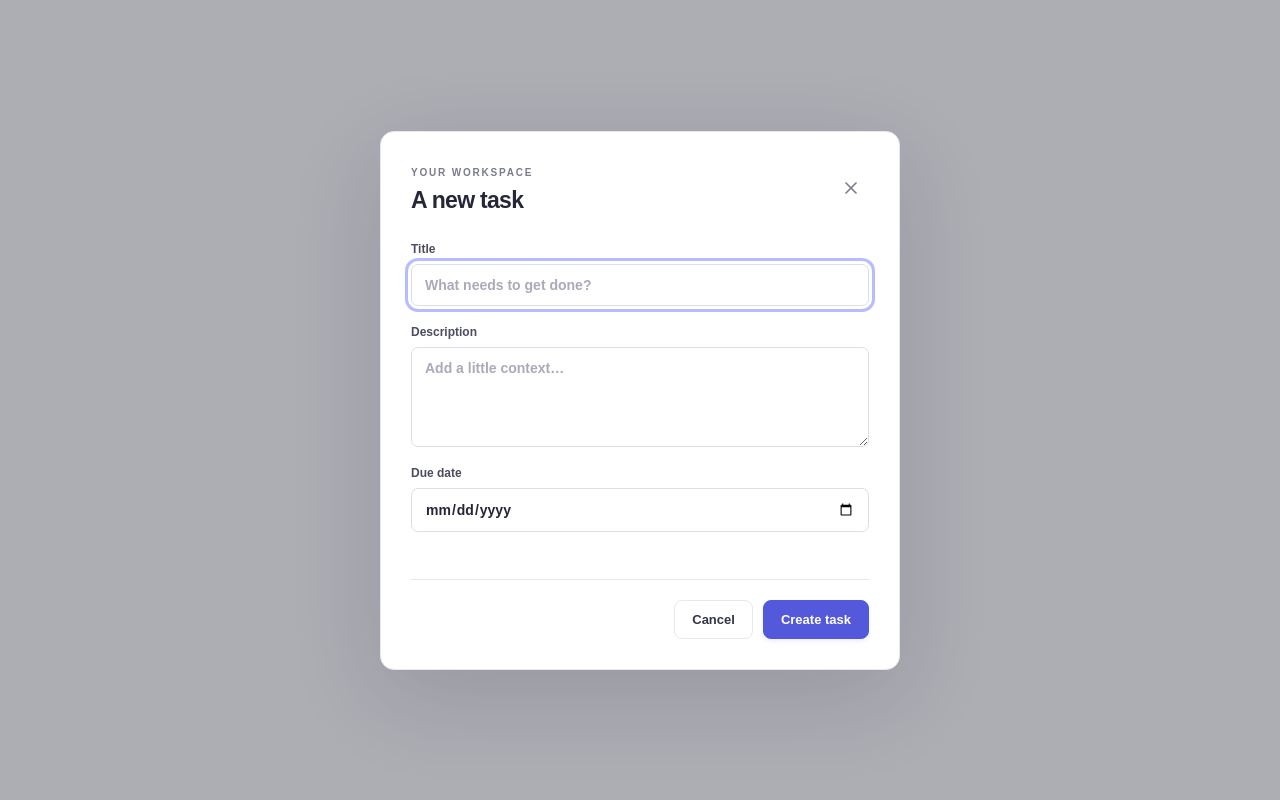
Scenario: Task form › keeps the form open when saving fails
In the field labelled "Title": (640, 284) top-left (411, 264), bottom-right (869, 306), type "Task"
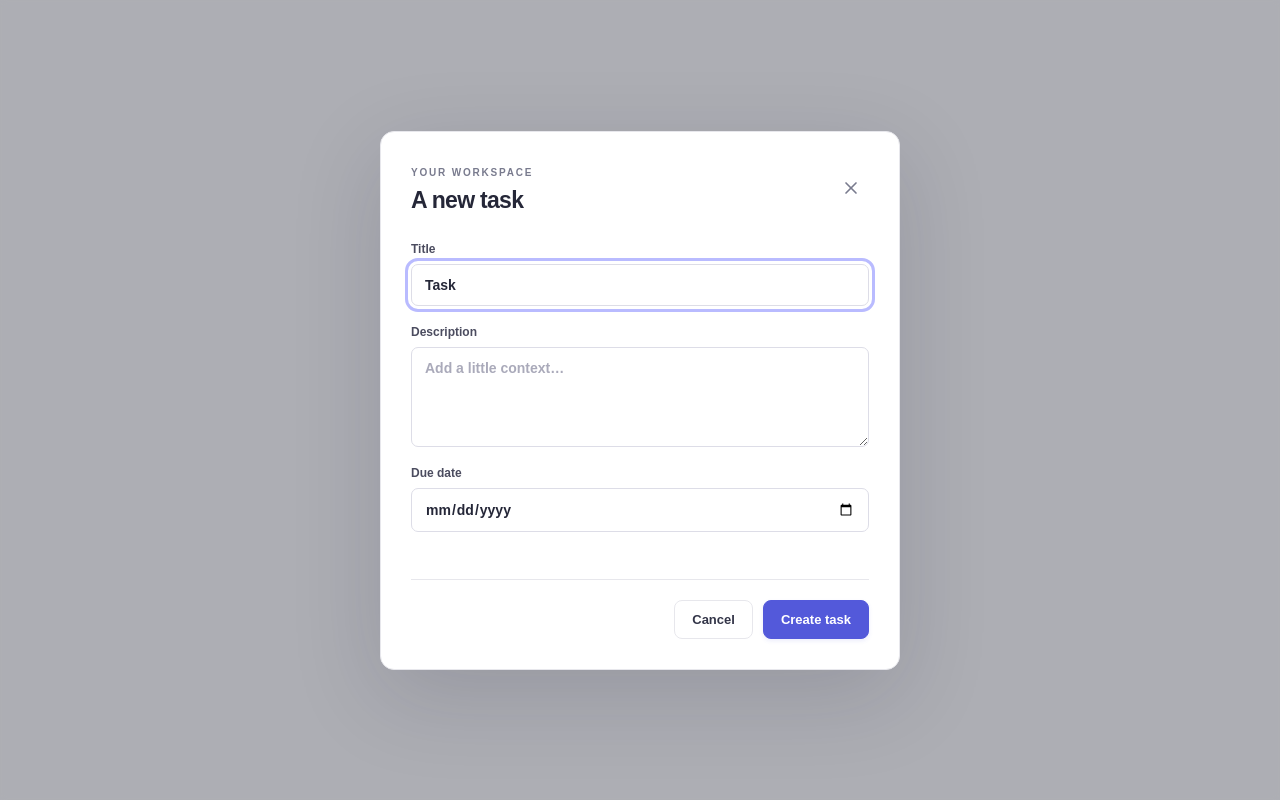
Click the button "Create task": click(816, 619) top-left (763, 600), bottom-right (869, 638)
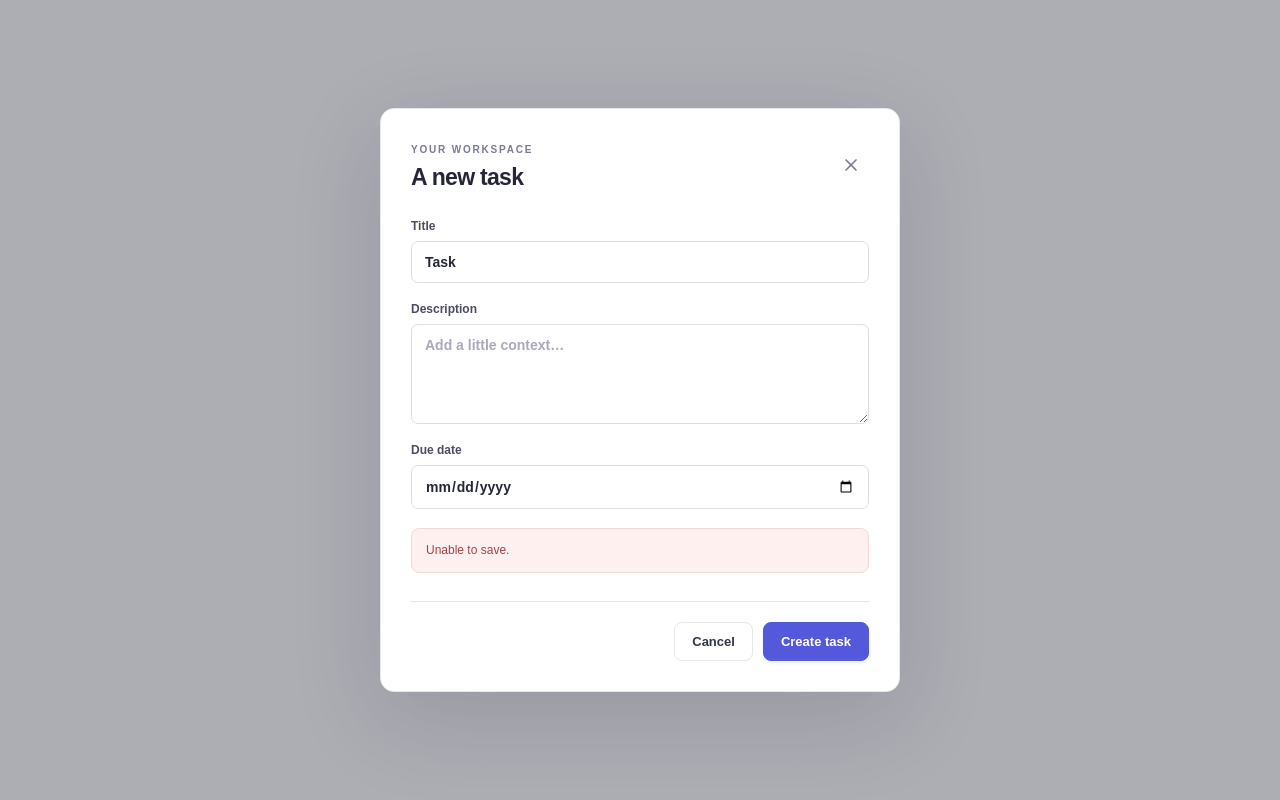
Now the message shows "Unable to save", box top-left (426, 543), bottom-right (509, 557)
